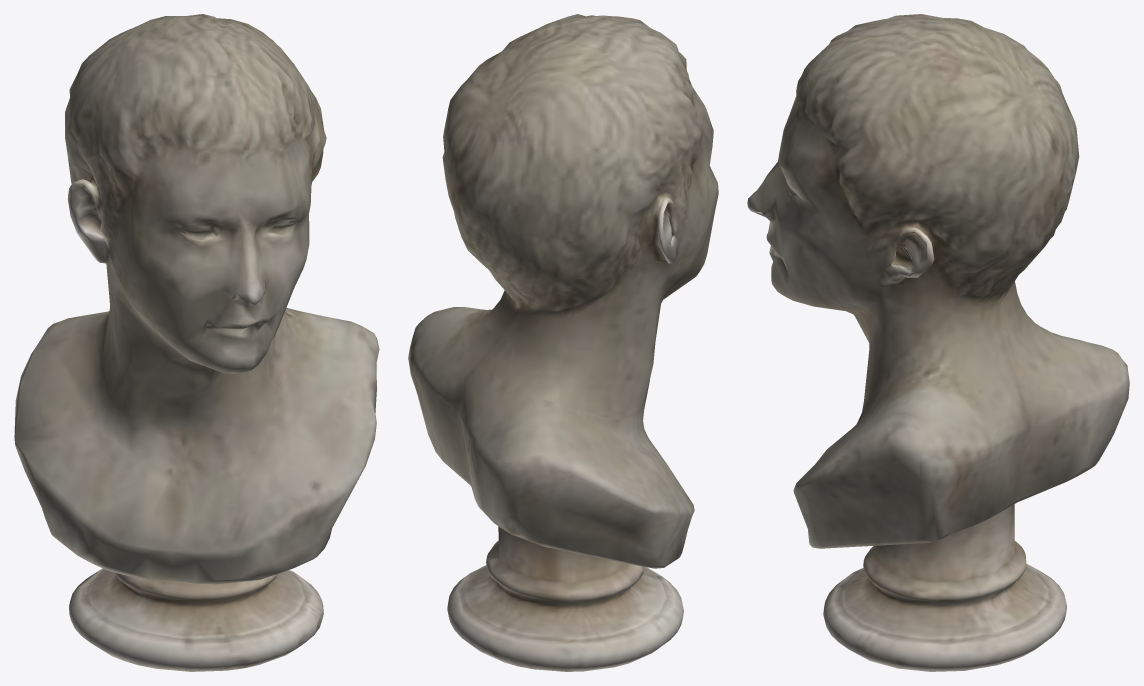
The model's file is th_bueste.glb.
3 views of the same model, side by side, from view 1: azimuth 30°, elevation 25°; view 2: azimuth 150°, elevation 25°; view 3: azimuth 270°, elevation 25° (orthographic). The views are drawn at different scales.
Visible parts, largest first — view 1: marble_bust_01; view 2: marble_bust_01; view 3: marble_bust_01.
Part boxes in pixels (x1,y1,x2,y2): marble_bust_01: (14,14,379,671); marble_bust_01: (408,14,718,671); marble_bust_01: (747,14,1129,671).
Bounding box in the file's own units: 0.2717 × 0.5148 × 0.2997.
Materials: 1 (1 with a texture image).
